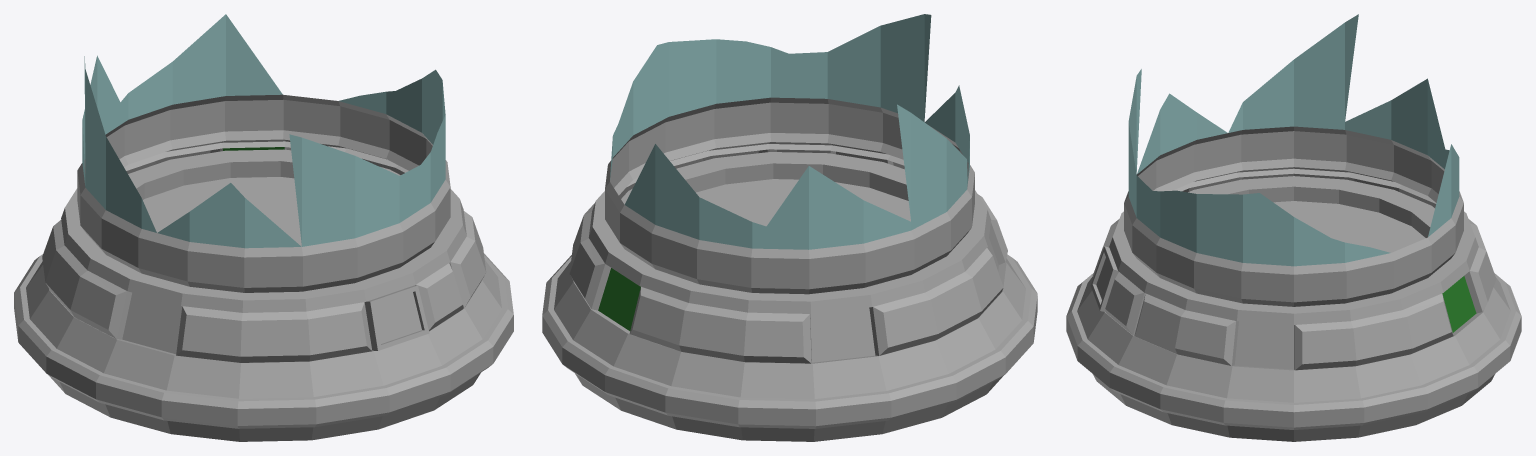
Rendered from broken tube.fbx.
The picture shows the model from 3 angles, left to right: view 1: azimuth 30°, elevation 25°; view 2: azimuth 150°, elevation 25°; view 3: azimuth 270°, elevation 25°; orthographic projection. The views are drawn at different scales.
Parts seen in each view (by area): view 1: pCylinder33; view 2: pCylinder33; view 3: pCylinder33.
Boxes of the visible parts, x1,y1,x2,y2 form: pCylinder33: (14, 14, 513, 441); pCylinder33: (542, 14, 1037, 441); pCylinder33: (1066, 14, 1521, 441).
Size of the model in its own units: 3.33 by 2.23 by 3.33.
